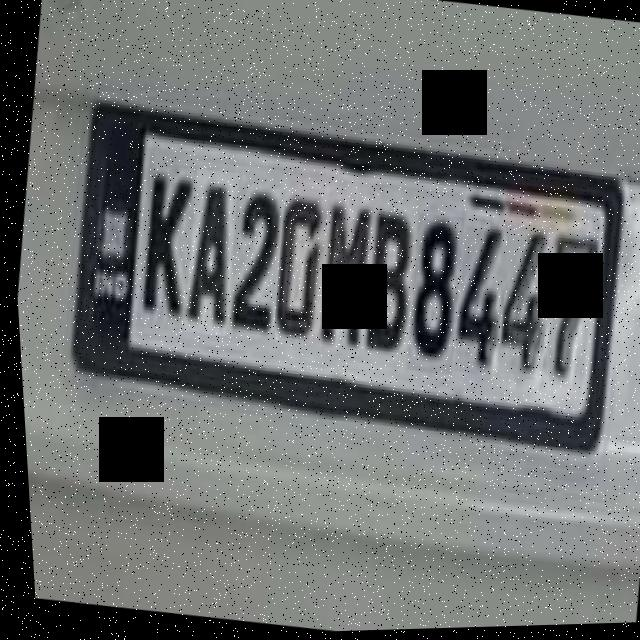0: (262, 191, 336, 350)
4: (442, 228, 514, 380), (487, 229, 556, 382)
7: (527, 230, 614, 407)
8: (395, 215, 469, 380)
A: (172, 168, 245, 339)
B: (350, 205, 423, 369)
K: (124, 153, 203, 338)
M: (303, 191, 378, 358)
